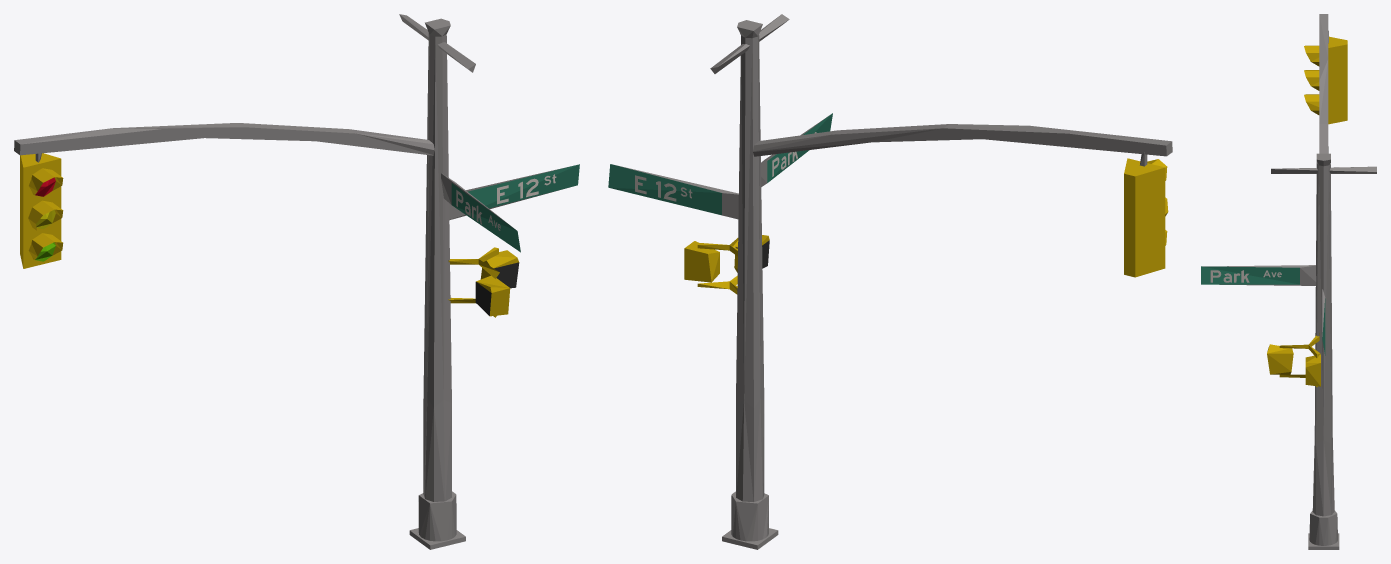
Rendered from traffic-light.glb.
3 views of the same model, side by side, from view 1: azimuth 30°, elevation 25°; view 2: azimuth 150°, elevation 25°; view 3: azimuth 270°, elevation 25° (orthographic). The views are drawn at different scales.
Visible parts, largest first — view 1: TrafficLight_2; view 2: TrafficLight_2; view 3: TrafficLight_2.
Boxes of the visible parts, bbox=[...] form: TrafficLight_2: bbox=[14, 14, 579, 549]; TrafficLight_2: bbox=[608, 14, 1172, 549]; TrafficLight_2: bbox=[1201, 14, 1376, 549].
Bounding box in the file's own units: 5.34 × 4.66 × 1.92.
1 material, 1 textured.
